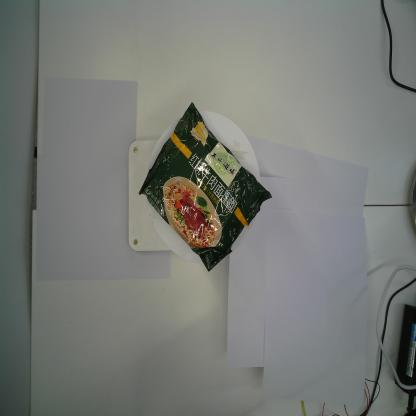Instant Noodles: (136, 100, 273, 274)
